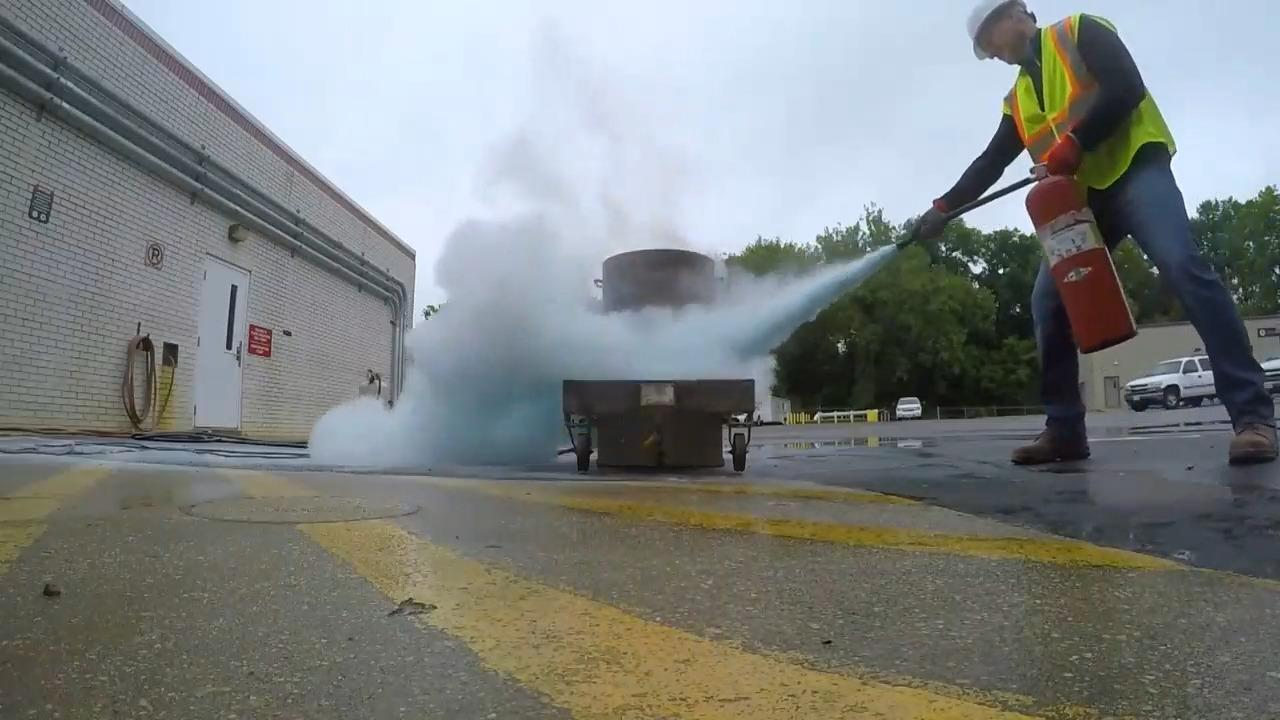Gloves: (1039, 136, 1096, 182), (903, 209, 948, 242)
Helmet: (962, 0, 1023, 50)
Person: (914, 0, 1278, 466)
Safety Boot: (1009, 427, 1090, 465), (1227, 420, 1277, 464)
